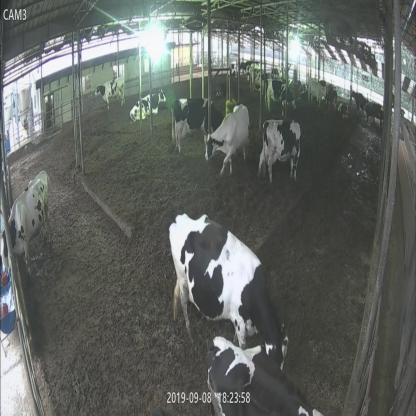cow: (168, 212, 288, 370), (205, 336, 324, 416), (0, 170, 50, 276), (205, 103, 249, 175), (256, 120, 301, 185), (172, 98, 224, 152), (130, 89, 166, 123), (265, 79, 296, 116), (94, 77, 126, 111), (308, 78, 327, 106), (351, 90, 367, 112), (338, 102, 350, 118)
